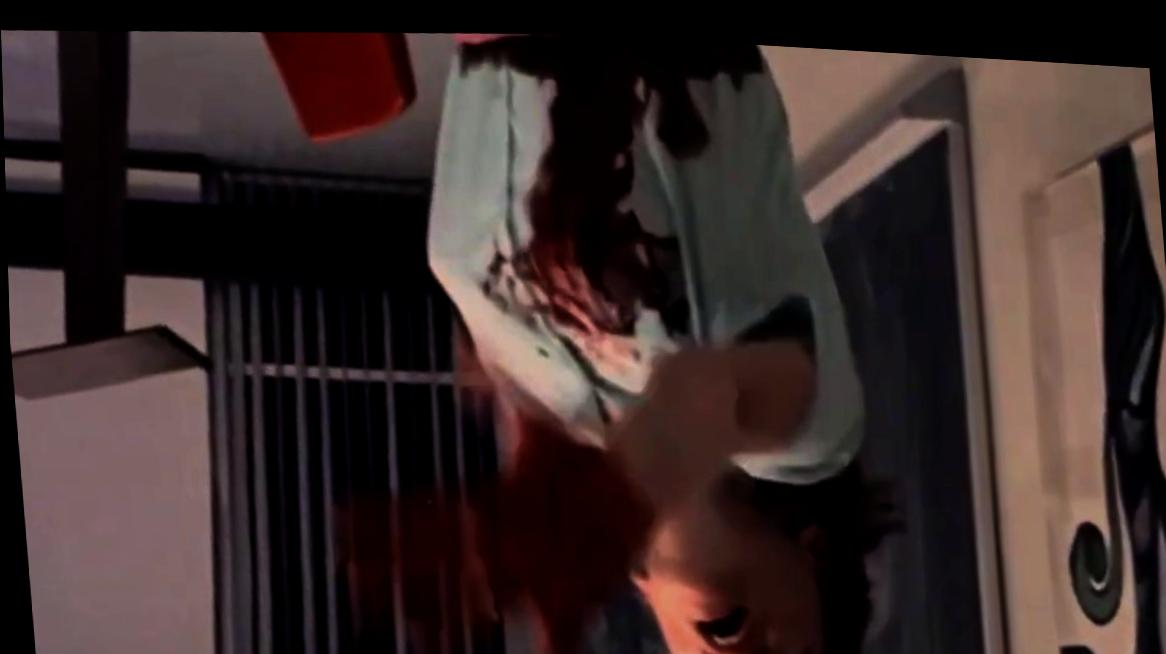Fire: (452, 27, 765, 378), (347, 409, 647, 654)
